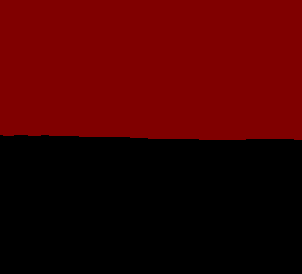Sky: (1, 1, 301, 273)
